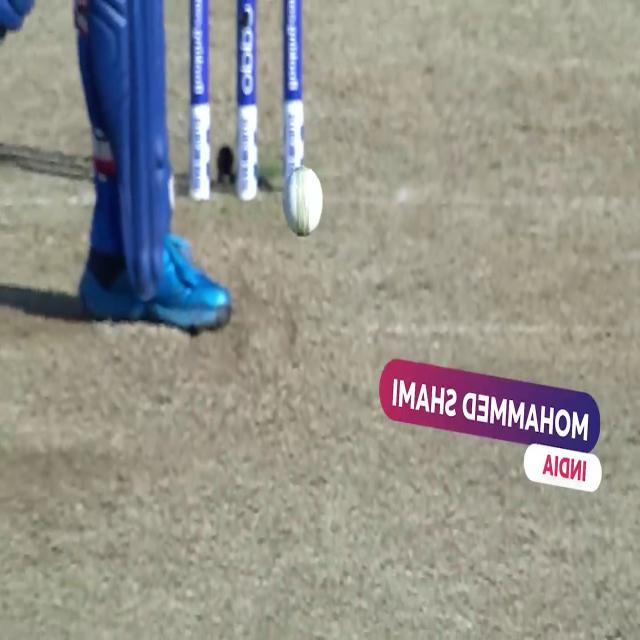ball: (281, 164, 327, 244)
